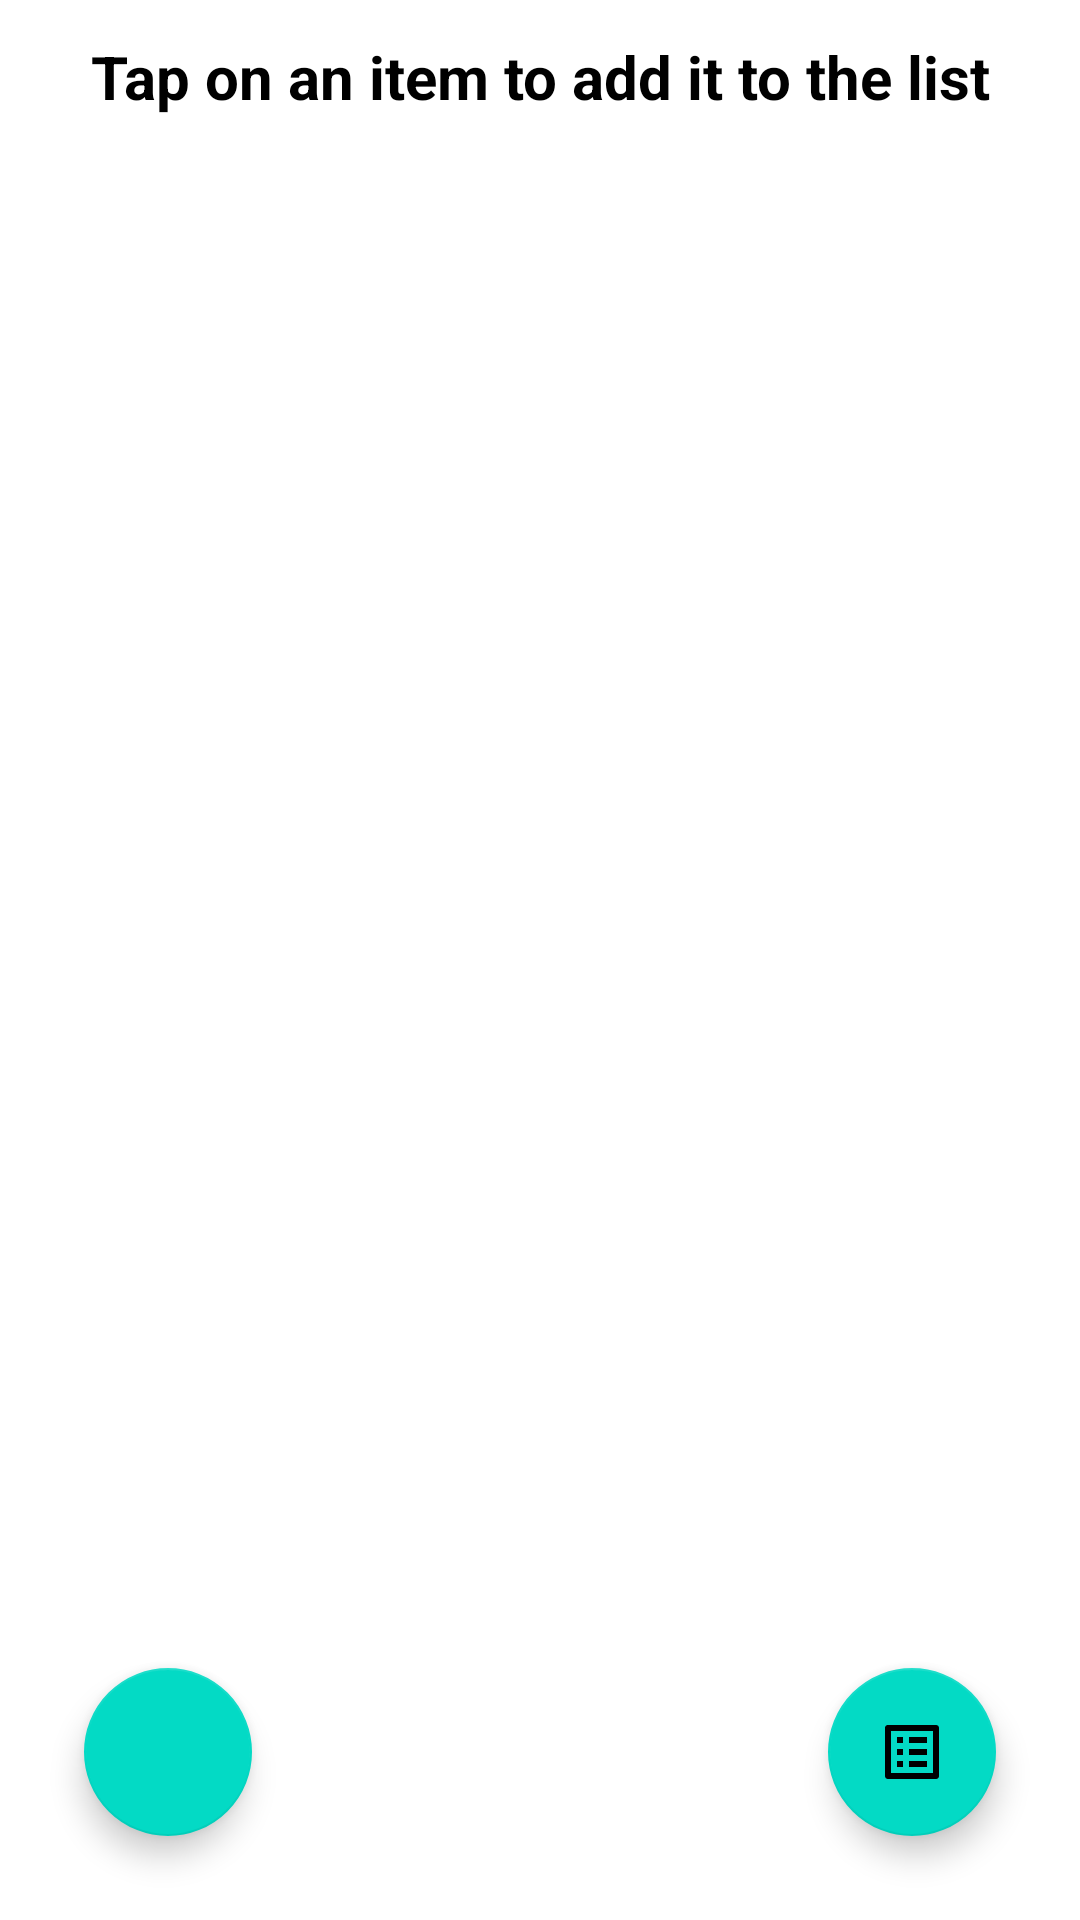

Screen size 1080px x 1920px. Icon name, then its center in pixels as (x,y):
list: (912,1752)
